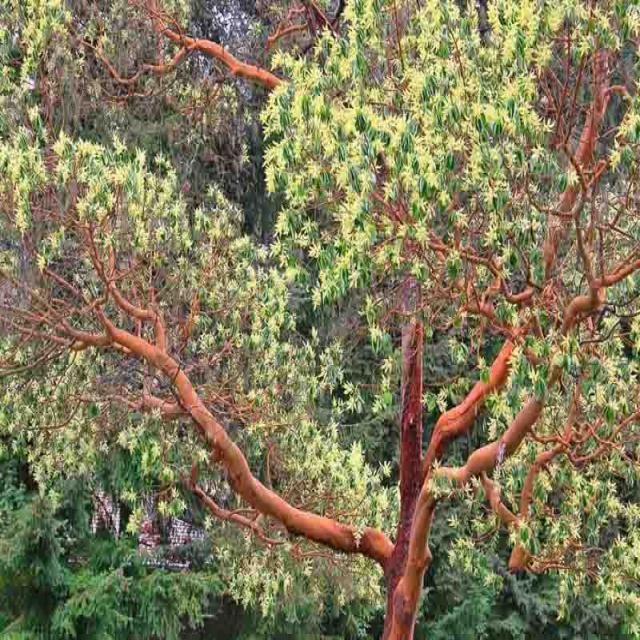Arbutus menziesii: (0, 1, 640, 640)
